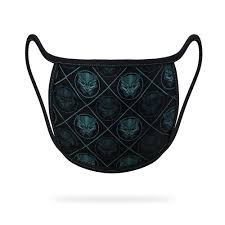cloth_mask: (24, 33, 204, 176)
